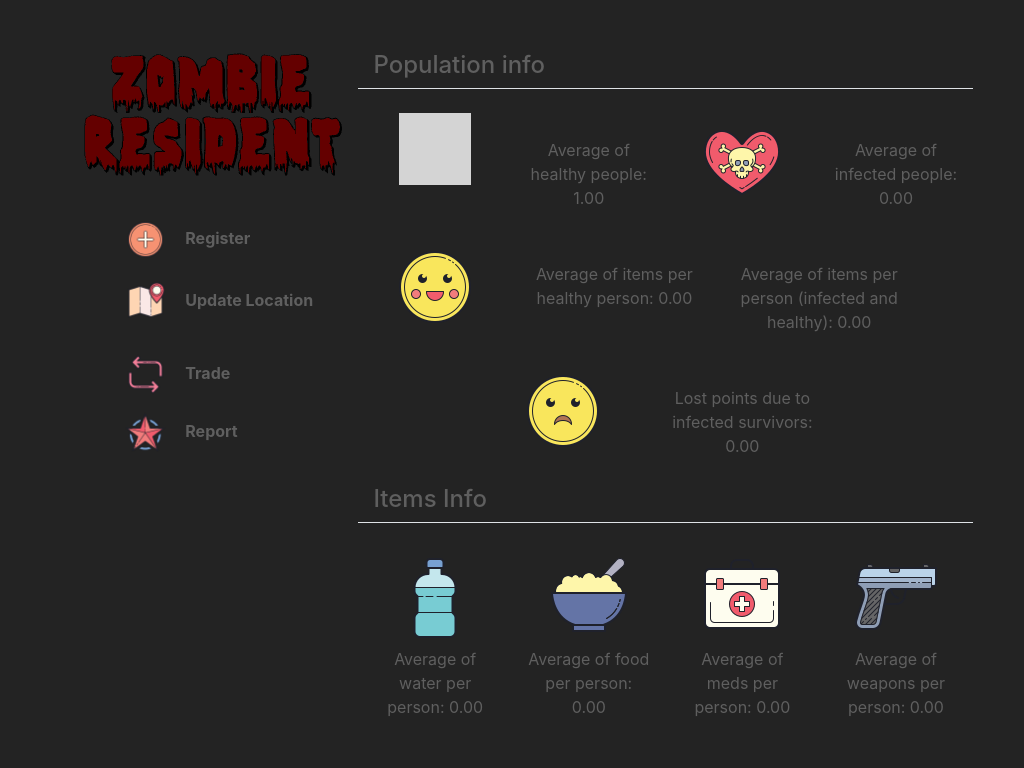
Scenario: Check Navigation › Checks Report URL and if all components are loading
Click the link "Report" at (212, 431), box top-left (106, 420), bottom-right (253, 442)
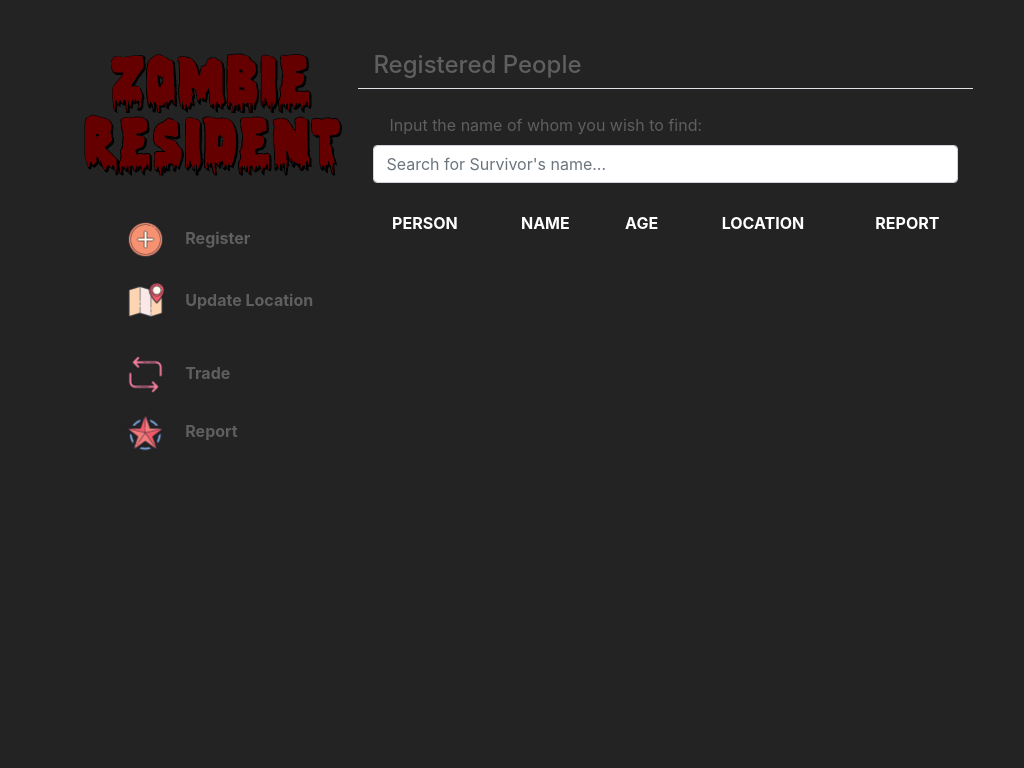
Expected: the heading "Registered People" is shown, top-left (373, 50), bottom-right (582, 79)
